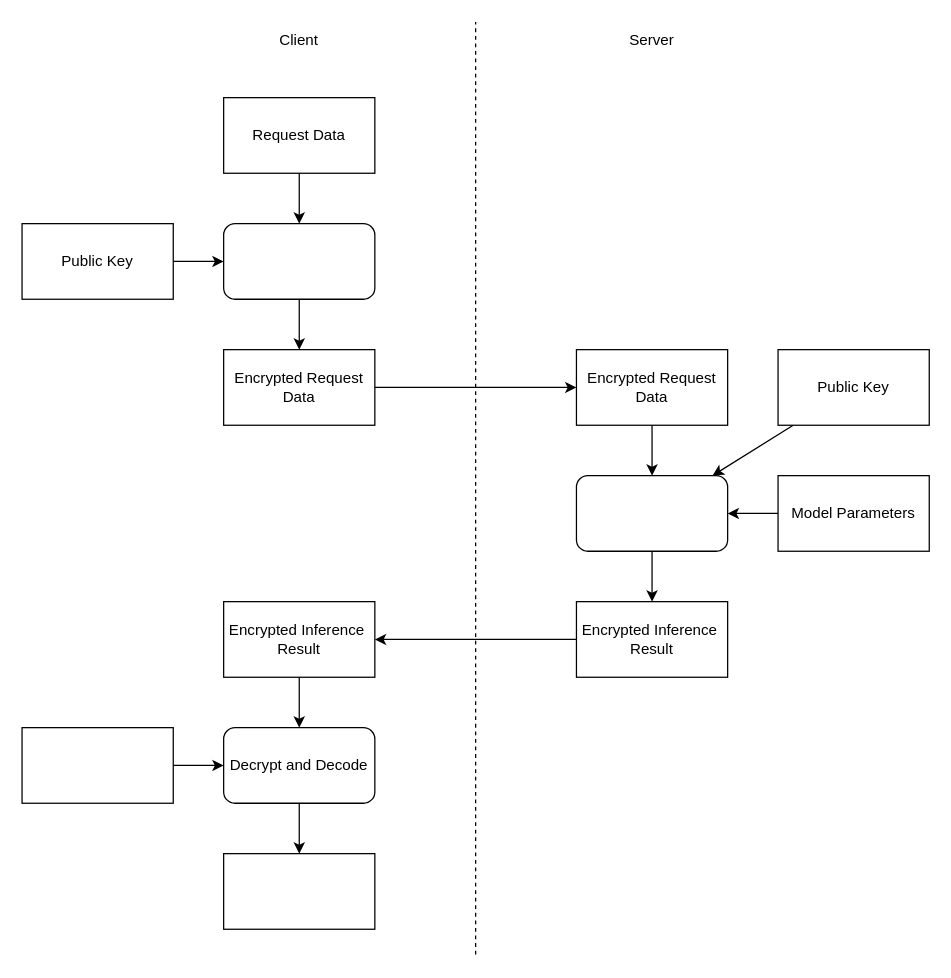
This 951x978 diagram has some shape labels left out. Each missing label, with the centre of its shape:
"Encode and Encrypt" belongs at pixel 298 260.
"Final Plaintext Inference Result" belongs at pixel 298 890.
"Inference on Ciphertext" belongs at pixel 651 512.
"Private Key" belongs at pixel 97 764.
